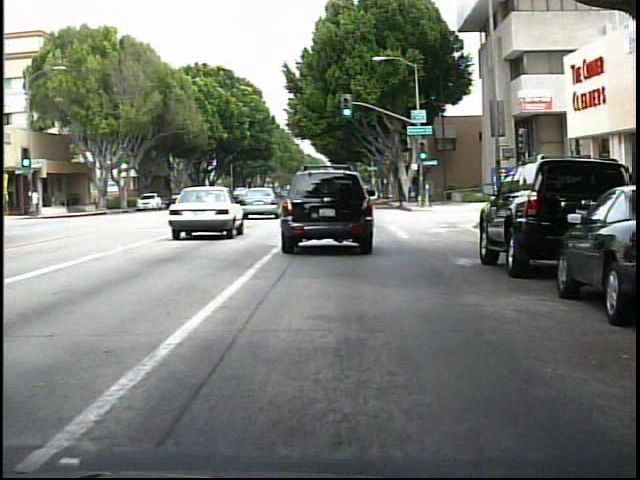person: (34, 187, 45, 218)
